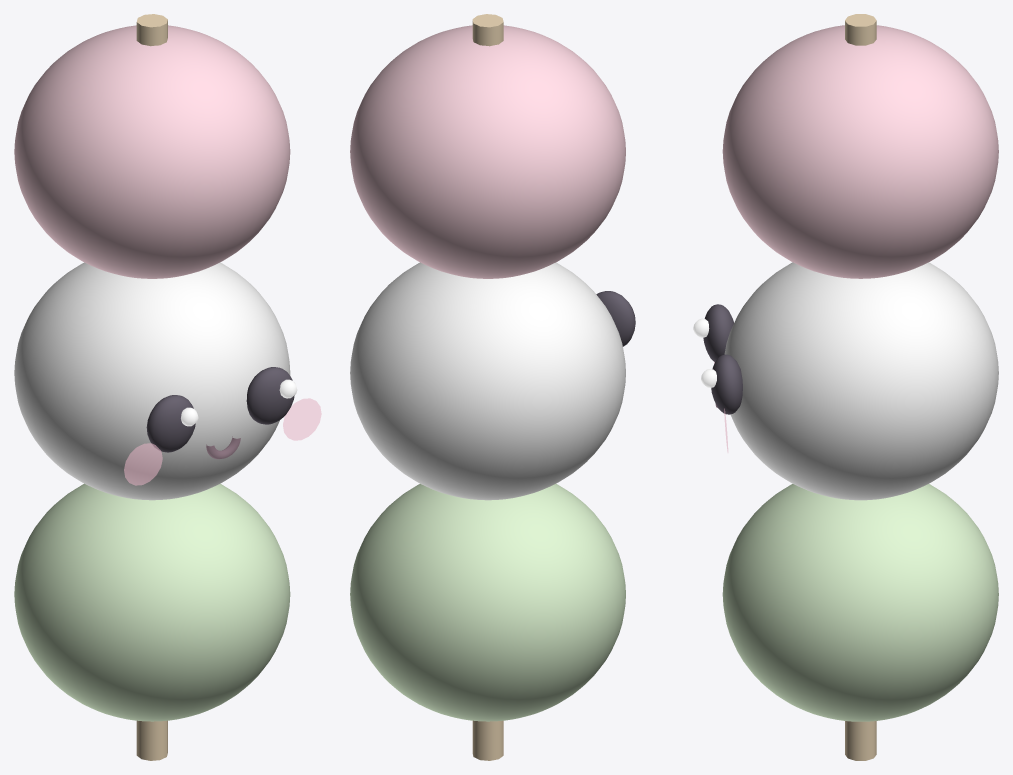
File: squishy_dango.glb
3 renders of one model, left to right at view 1: azimuth 30°, elevation 25°; view 2: azimuth 150°, elevation 25°; view 3: azimuth 270°, elevation 25°, orthographic.
Visible parts, largest first — view 1: Part_2, Part_1, Body, Base_0, Part_3, Part_6, Part_5, Part_8; view 2: Part_2, Part_1, Body, Base_0, Part_3; view 3: Part_2, Part_1, Body, Base_0, Part_6, Part_3.
Part boxes in pixels (box(x1,y1,x2,y2)): Part_2: box(14, 25, 290, 278); Part_1: box(14, 483, 290, 721); Body: box(14, 262, 290, 500); Base_0: box(136, 14, 167, 760); Part_3: box(146, 395, 195, 452); Part_6: box(246, 367, 294, 424); Part_5: box(124, 443, 162, 485); Part_8: box(283, 398, 321, 440); Part_2: box(350, 25, 625, 278); Part_1: box(350, 484, 625, 721); Body: box(350, 262, 625, 500); Base_0: box(472, 14, 503, 760); Part_3: box(596, 291, 635, 346); Part_2: box(722, 25, 998, 278); Part_1: box(722, 484, 998, 721); Body: box(724, 262, 998, 500); Base_0: box(845, 14, 876, 760); Part_6: box(711, 354, 742, 414); Part_3: box(703, 304, 733, 361).
Size of the model in its own units: 1.04 by 3.05 by 1.15.
